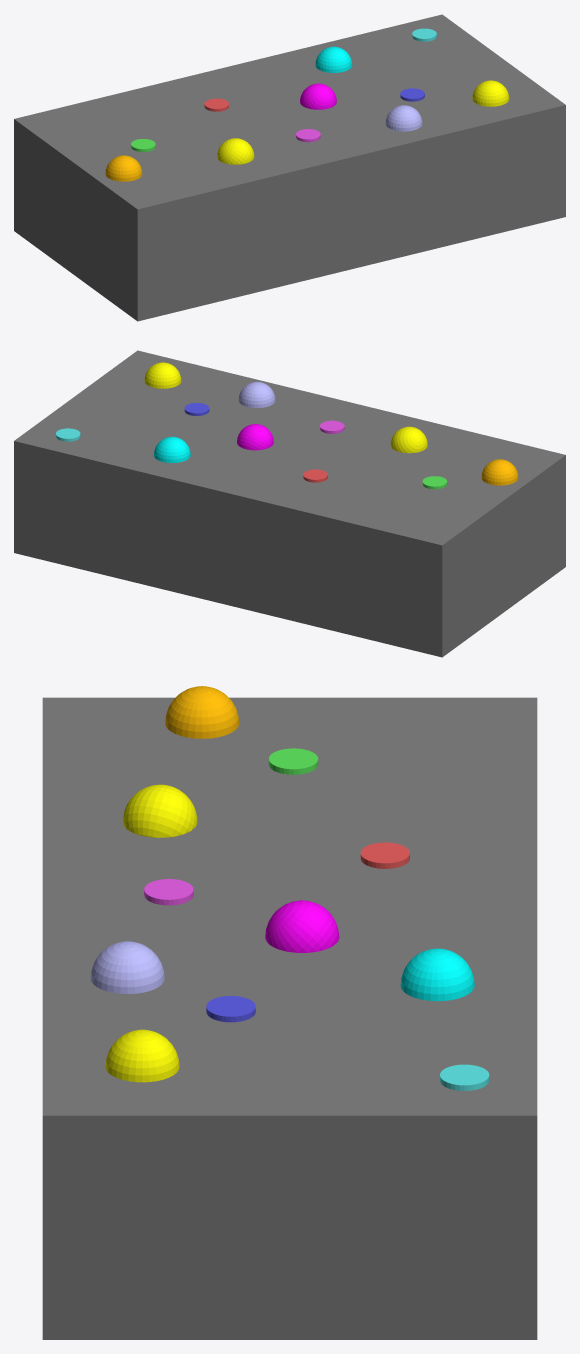
Rendered from Maschine.fbx.
3 views of the same model, one above another, from view 1: azimuth 30°, elevation 25°; view 2: azimuth 150°, elevation 25°; view 3: azimuth 270°, elevation 25° (orthographic). The views are drawn at different scales.
Parts seen in each view (by area): view 1: Machine_Base, Lamp, Lamp.003, Lamp.004, Lamp.005, Lamp.001, Lamp.002; view 2: Machine_Base, Lamp, Lamp.005, Lamp.003, Lamp.002, Lamp.001, Lamp.004; view 3: Machine_Base, Lamp, Lamp.005, Lamp.003, Lamp.001, Lamp.004, Lamp.002, Button.001, Button.004, Button, Button.005, Button.002.
Part boxes in pixels (box(x1,y1,x2,y2)): Machine_Base: box(14, 14, 565, 321); Lamp: box(217, 138, 254, 164); Lamp.003: box(105, 155, 142, 181); Lamp.004: box(385, 105, 422, 131); Lamp.005: box(472, 80, 509, 106); Lamp.001: box(315, 46, 352, 72); Lamp.002: box(300, 83, 336, 109); Machine_Base: box(14, 350, 565, 657); Lamp: box(390, 426, 427, 453); Lamp.005: box(144, 362, 181, 388); Lamp.003: box(481, 459, 518, 485); Lamp.002: box(237, 424, 273, 450); Lamp.001: box(153, 436, 190, 462); Lamp.004: box(238, 381, 275, 407); Machine_Base: box(42, 697, 537, 1339); Lamp: box(122, 784, 197, 837); Lamp.005: box(105, 1029, 179, 1082); Lamp.003: box(165, 686, 239, 738); Lamp.001: box(400, 948, 474, 1001); Lamp.004: box(90, 941, 164, 993); Lamp.002: box(265, 900, 339, 952); Button.001: box(268, 748, 318, 774); Button.004: box(144, 879, 193, 905); Button: box(360, 842, 409, 868); Button.005: box(440, 1064, 489, 1090); Button.002: box(206, 996, 255, 1022).
Size of the model in its own units: 400 by 115 by 200.
